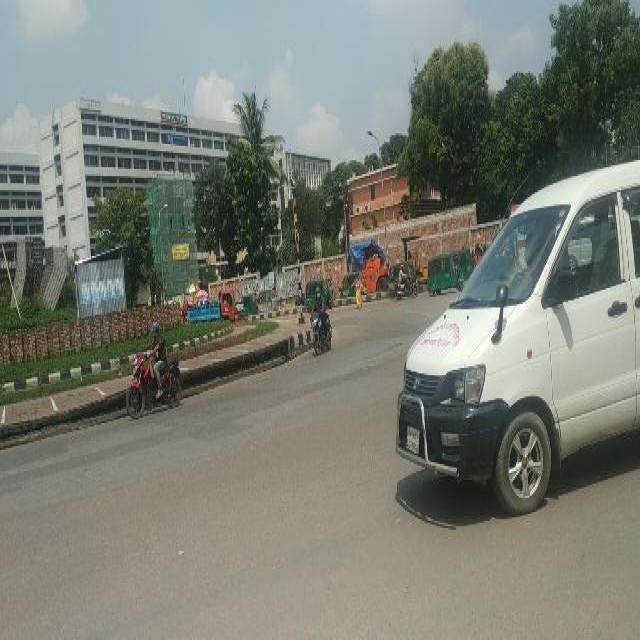bike: (126, 321, 185, 421), (310, 312, 335, 358), (394, 280, 421, 302)
vehicle: (392, 158, 640, 524), (189, 289, 245, 321), (426, 255, 464, 296), (306, 281, 333, 311), (343, 273, 368, 298), (457, 249, 476, 279), (259, 289, 280, 314), (244, 292, 257, 315)
